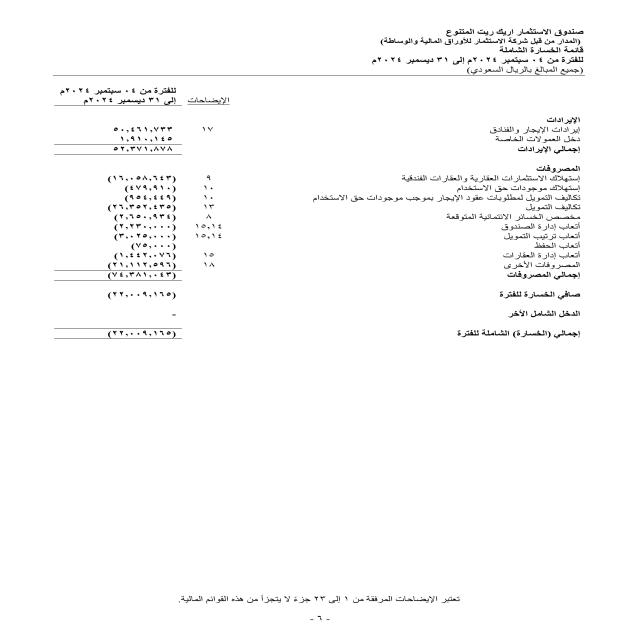financial_sheets: (492, 46, 588, 56)
table: (25, 83, 235, 357)
